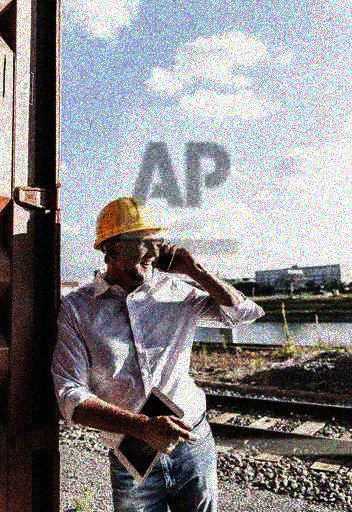helmet: (93, 198, 169, 286)
